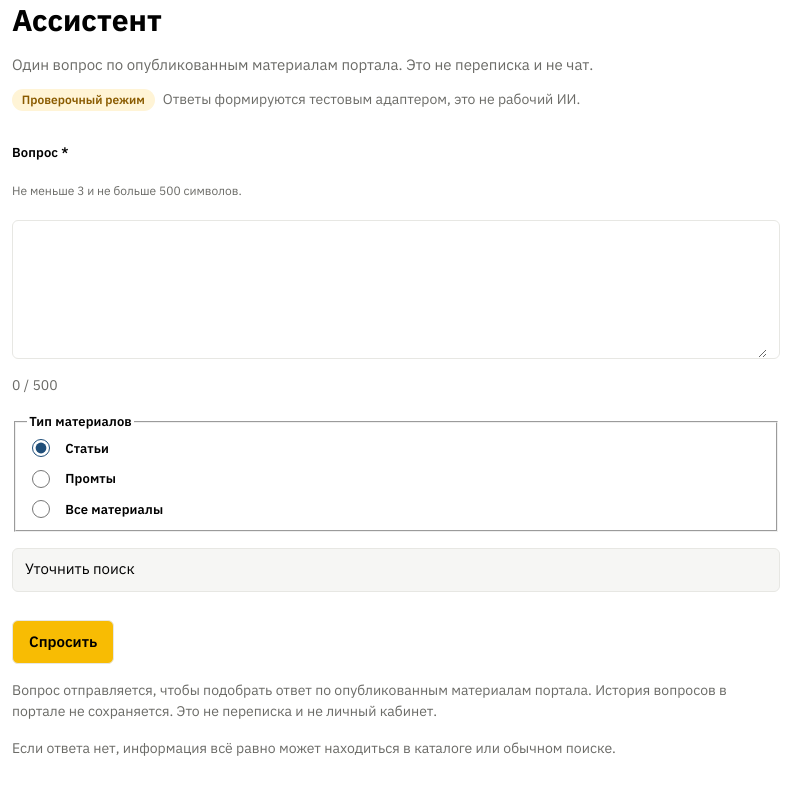
assistant hardening states › renders taxonomy labels as text and resets filters to article
Click the heading "Уточнить поиск" at point(80, 569), box [12,548,780,592]
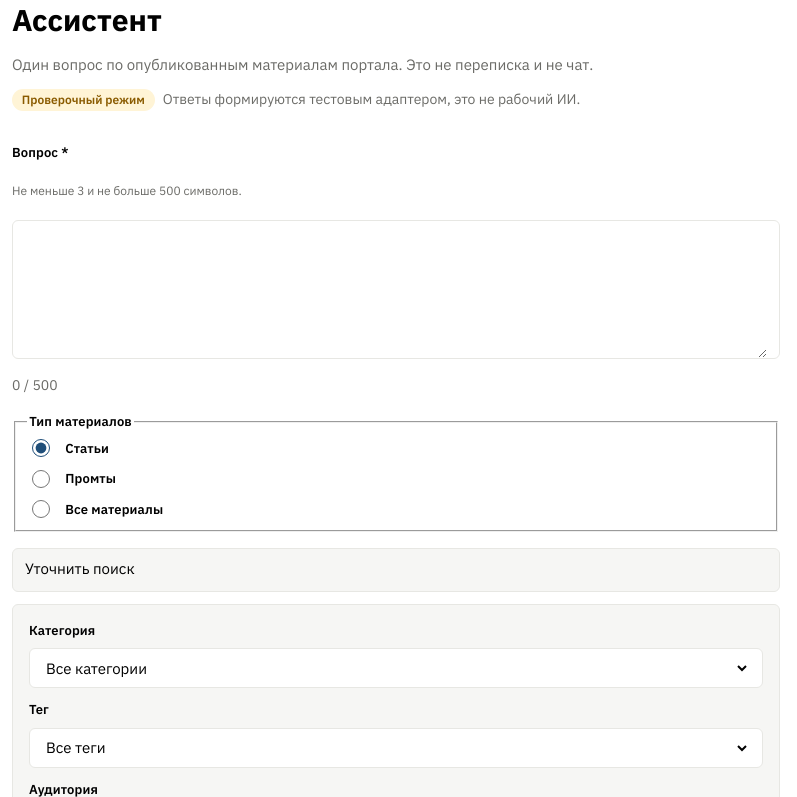
Select "<img src=x onerror=alert(1)>Категория" in the dropdown labelled "Категория" at point(396, 668), box [42,649,750,687]
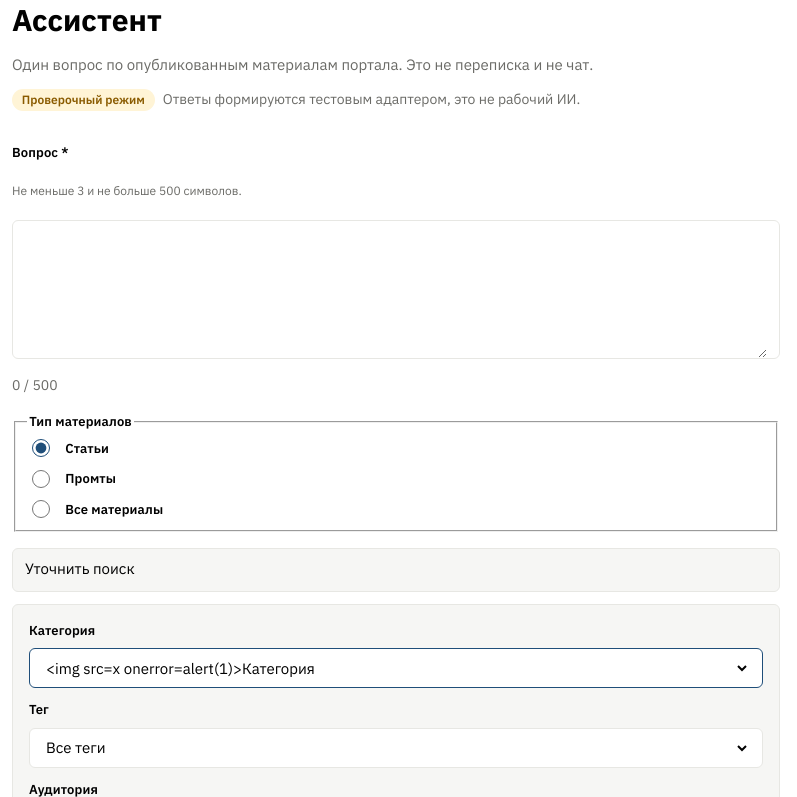
Click the radio button labelled "Промты" at point(41, 478), box [32,470,50,488]
(page scrolled)
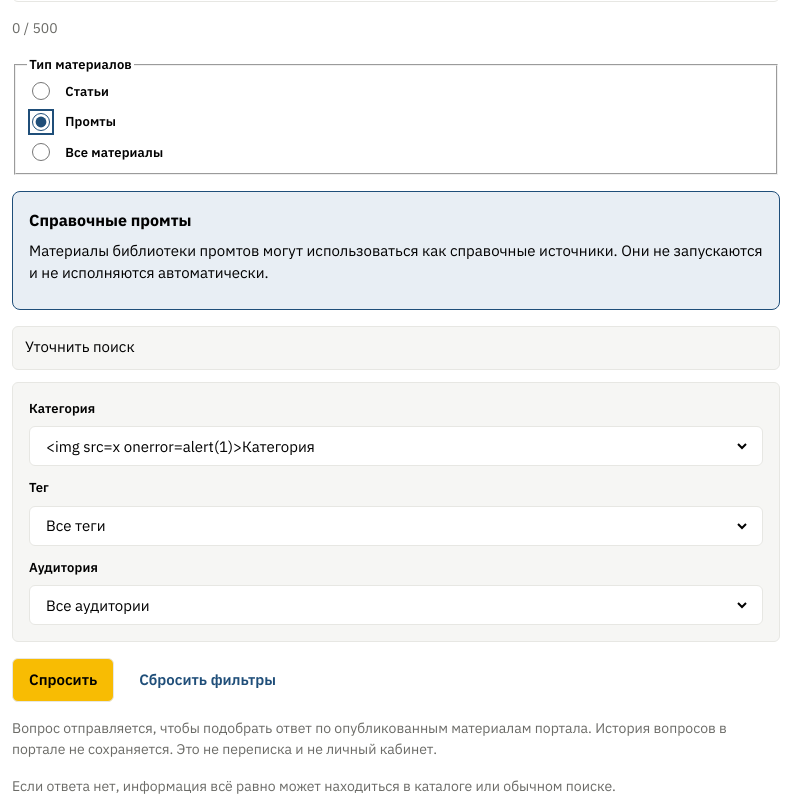
Click the button "Сбросить фильтры" at point(208, 680), box [122,658,293,702]
(page scrolled)
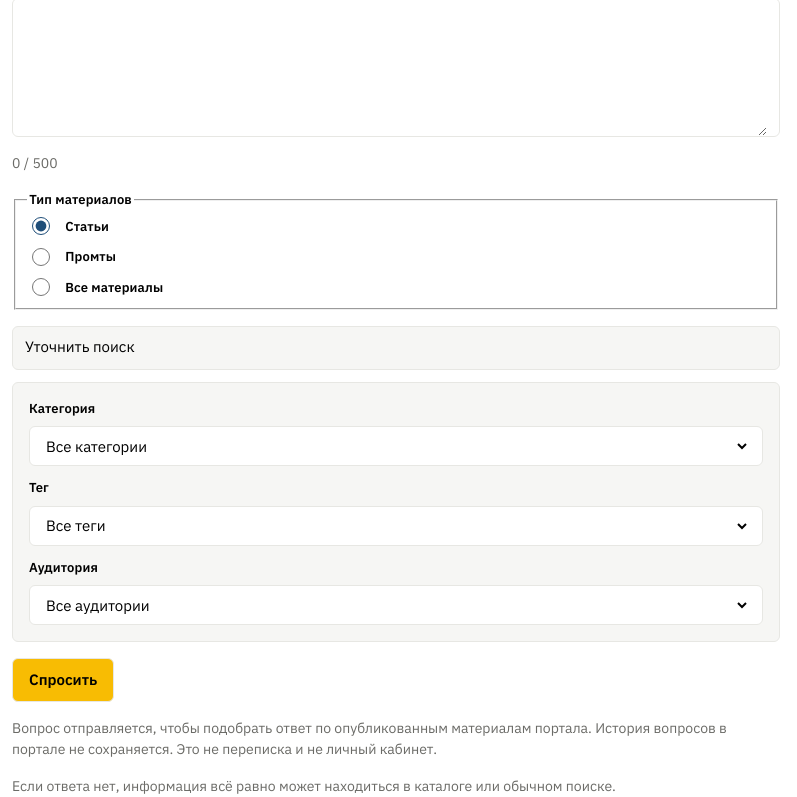
Expected: the radio button labelled "Статьи" is checked, [32,217,50,235]
